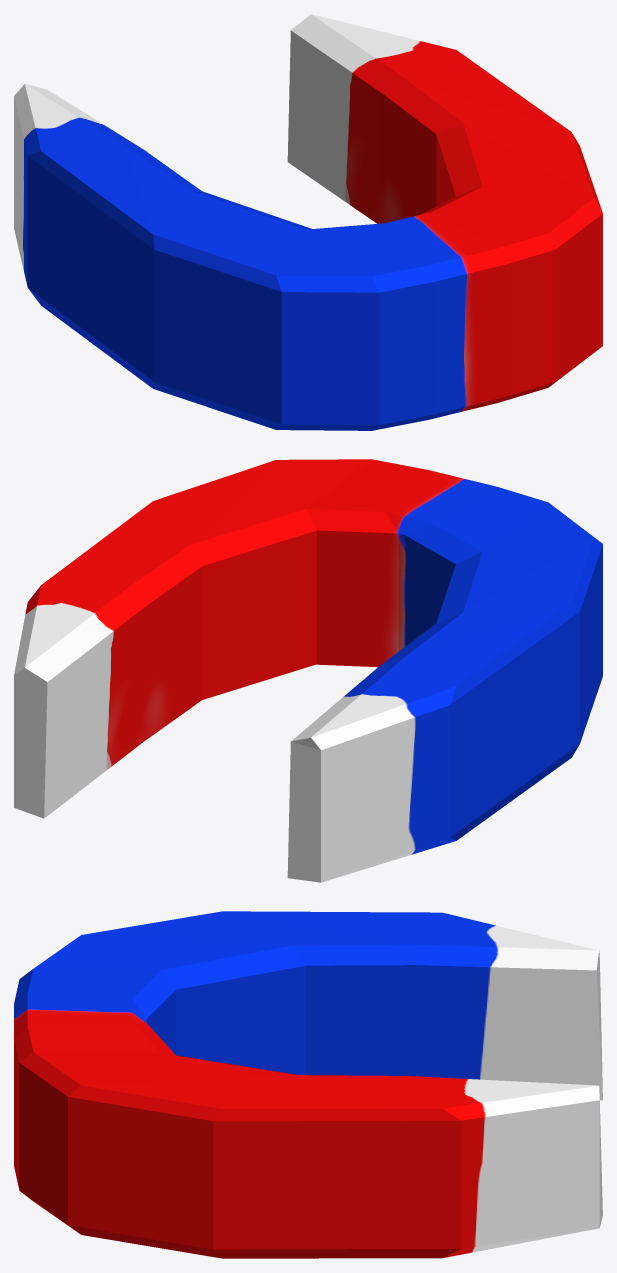
Rendered from magnet.glb.
The picture shows the model from 3 angles, top to bottom: view 1: azimuth 30°, elevation 25°; view 2: azimuth 150°, elevation 25°; view 3: azimuth 270°, elevation 25°; orthographic projection. The views are drawn at different scales.
Visible parts, largest first — view 1: Magnet; view 2: Magnet; view 3: Magnet.
Boxes of the visible parts, <box> form: Magnet: <box>14,14,602,430</box>; Magnet: <box>14,459,602,882</box>; Magnet: <box>14,911,602,1258</box>.
Bounding box in the file's own units: 3.42 × 1.2 × 4.24.
Materials: 1 (1 with a texture image).
